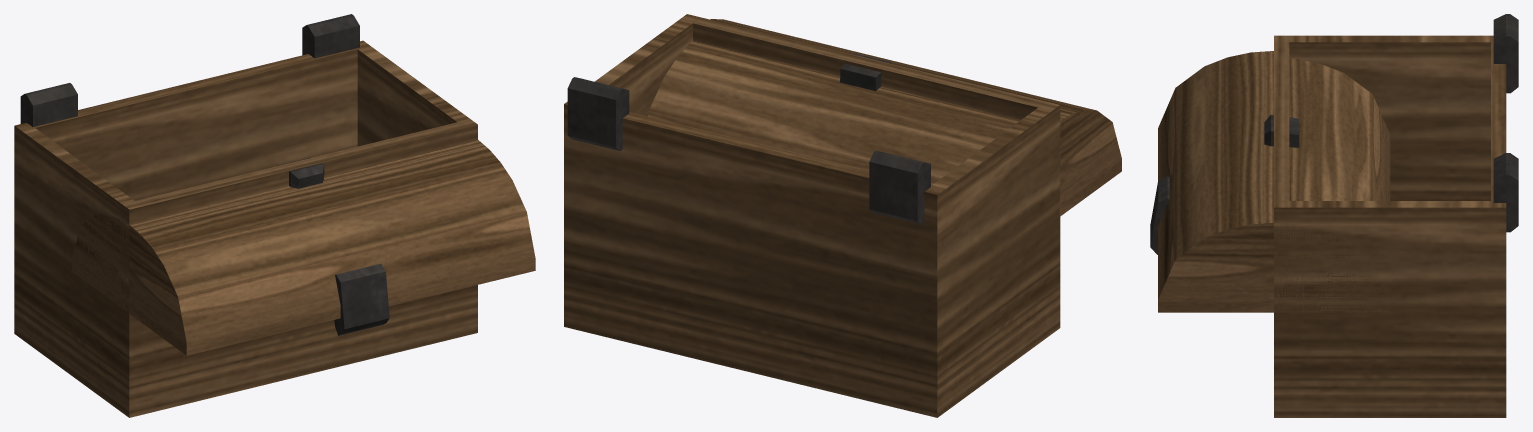
The model's file is mine_chest.glb.
3 views of the same model, side by side, from view 1: azimuth 30°, elevation 25°; view 2: azimuth 150°, elevation 25°; view 3: azimuth 270°, elevation 25° (orthographic). The views are drawn at different scales.
Parts seen in each view (by area): view 1: chest, chest_top.001; view 2: chest, chest_top.001; view 3: chest, chest_top.001.
Boxes of the visible parts, box(x1,y1,x2,y2) form: chest: box(14, 14, 477, 417); chest_top.001: box(72, 140, 535, 355); chest: box(564, 14, 1060, 417); chest_top.001: box(648, 19, 1121, 249); chest: box(1264, 14, 1518, 417); chest_top.001: box(1150, 51, 1390, 312).
Bounding box in the file's own units: 3.51 × 2.26 × 3.17.
Materials: 2 (2 with a texture image).
